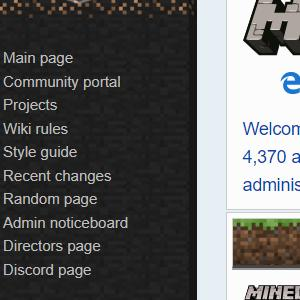edge: (280, 70, 300, 94)
